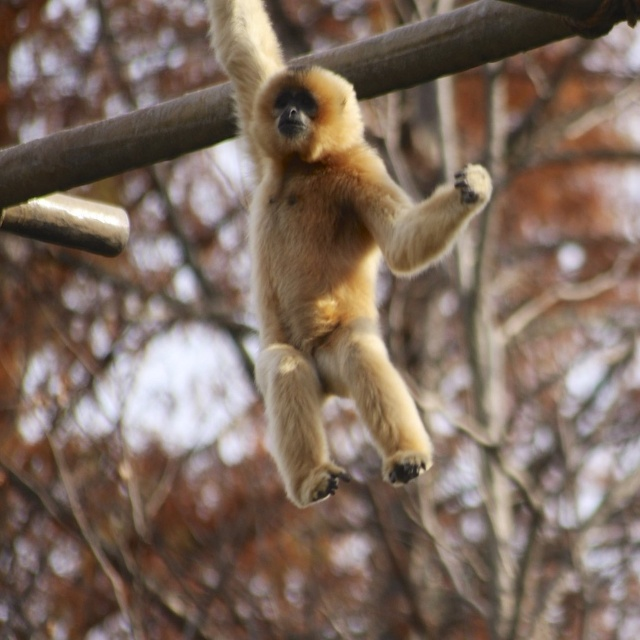Monkey: (206, 0, 493, 508)
